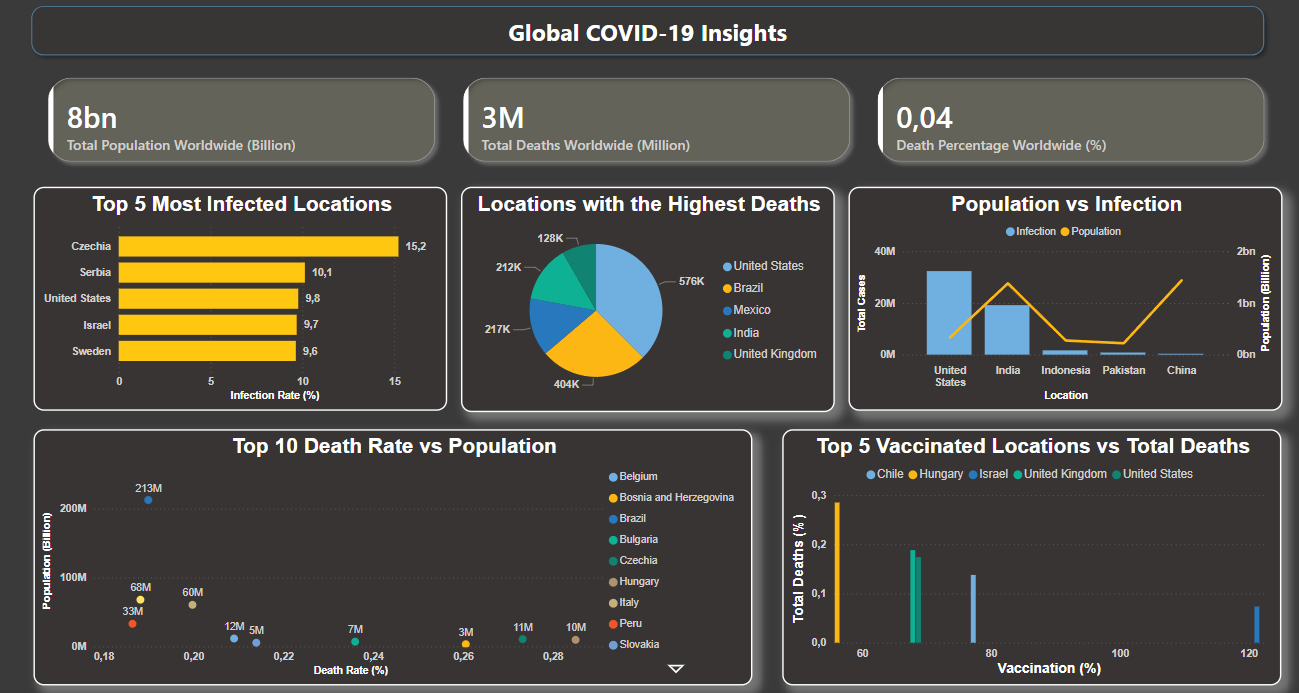

The dashboard page shown, as its layout file describes it:
{"tool":"powerbi","page":{"name":"Page 1","canvas":[1500,800],"ordinal":0},"visuals":[{"type":"lineChart","title":"Top 10 Death Rate vs Population","fields":{"Category":["Query1.death_rate_percentage"],"Series":["Query1.location"],"Y":["Max(Query1.population)"]},"box":[48.6,492.9,821.4,292.9],"z":0},{"type":"shape","box":[36.6,0,1426.9,74.5],"z":1000},{"type":"columnChart","title":"Top 5 Vaccinated Locations vs Total Deaths","fields":{"Category":["vacc vs death.Vaccination_percentage"],"Y":["Max(vacc vs death.Total_death_percentage)"],"Series":["vacc vs death.Location"]},"box":[904.3,492.9,570,292.9],"z":2000},{"type":"cardVisual","fields":{"Data":["Sum(Cards.total_population_worldwide)","Sum(Cards.total_deaths_worldwide)","Sum(Cards.death_percentage_worldwide)"]},"box":[48.8,74.5,1425.5,130.1],"z":3000},{"type":"barChart","title":"Top 5 Most Infected Locations","fields":{"Category":["Query1.location"],"Y":["Sum(infection vs pop.infection_rate)"]},"box":[48.8,215.5,472.9,256.1],"z":4000},{"type":"pieChart","title":"Locations with the Highest Deaths","fields":{"Y":["Sum(death count.total_deaths)"],"Category":["death count.location"]},"box":[536.6,215.5,426.8,257.5],"z":5000},{"type":"lineClusteredColumnComboChart","title":"Population vs Infection","fields":{"Category":["pop vs case.location"],"Y":["Max(pop vs case.total_cases)"],"Y2":["Max(pop vs case.population)"]},"box":[979.7,215.5,495.9,256.1],"z":6000}]}

Visuals, with their boxes in screenshot pixels (x1, y1, x2, y2), scaled from the page's 1500x800 canvas onto the 1299x693 screenshot:
"Top 10 Death Rate vs Population" lineChart: [42, 427, 753, 681]
shape: [32, 0, 1267, 65]
"Top 5 Vaccinated Locations vs Total Deaths" columnChart: [783, 427, 1277, 681]
cardVisual - Sum(Cards.total_population_worldwide) x Sum(Cards.total_deaths_worldwide): [42, 65, 1277, 177]
"Top 5 Most Infected Locations" barChart: [42, 187, 452, 409]
"Locations with the Highest Deaths" pieChart: [465, 187, 834, 410]
"Population vs Infection" lineClusteredColumnComboChart: [848, 187, 1278, 409]
